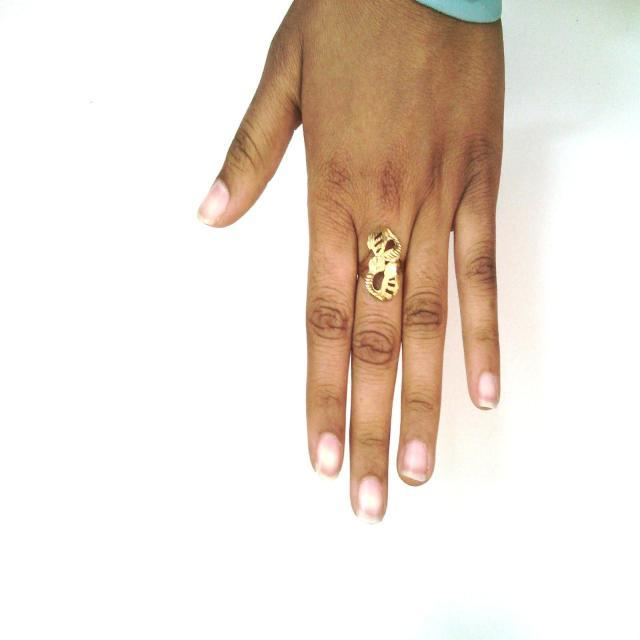Fingernail: (199, 182, 228, 223), (358, 476, 383, 522), (400, 440, 428, 479), (317, 434, 341, 477), (478, 373, 497, 408)
